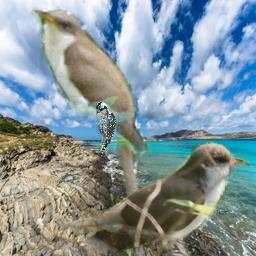Cuckoo: (26, 3, 153, 239), (60, 141, 250, 256)
Woodpecker: (96, 102, 116, 157)
